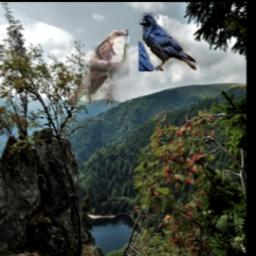Crow: (140, 12, 198, 71)
Cuckoo: (66, 30, 130, 107)
